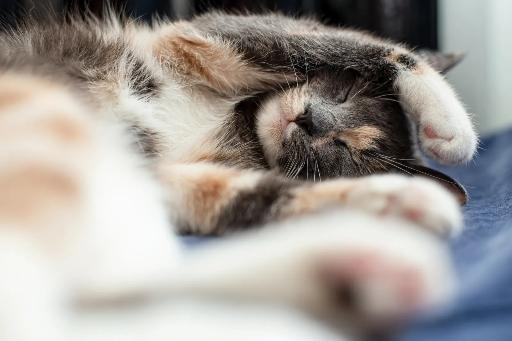cat_sleeping: (0, 12, 476, 341)
